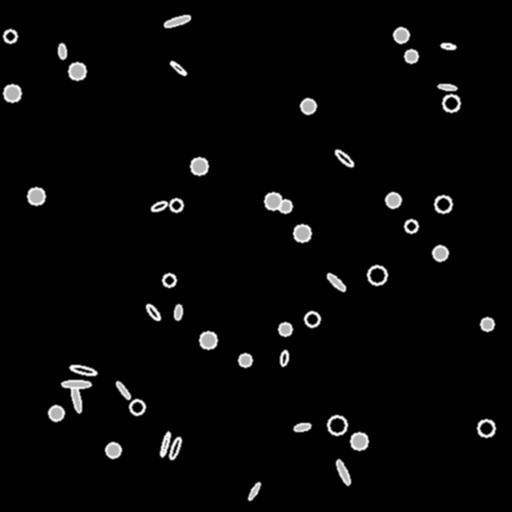pseudomonas: (335, 458, 351, 486), (325, 272, 347, 292), (334, 148, 354, 168), (163, 14, 191, 28), (70, 383, 82, 413), (159, 431, 171, 457), (70, 364, 96, 376), (168, 437, 182, 459), (145, 303, 161, 321), (115, 381, 131, 399), (169, 60, 187, 76), (247, 482, 261, 500), (150, 199, 168, 213), (62, 380, 90, 388), (294, 422, 310, 432), (437, 83, 457, 91), (279, 350, 289, 366), (174, 304, 182, 320), (58, 43, 66, 59), (440, 42, 456, 50)
synechocystis: (328, 416, 346, 434), (368, 266, 386, 284), (478, 420, 494, 436), (443, 95, 459, 111), (4, 85, 20, 101), (69, 63, 85, 79), (200, 332, 216, 348), (28, 188, 44, 204), (351, 433, 367, 449), (294, 225, 310, 241), (265, 193, 281, 209), (191, 158, 207, 174), (435, 196, 451, 212), (49, 406, 63, 420), (130, 400, 144, 414), (386, 193, 400, 207), (106, 443, 120, 457), (433, 246, 447, 260), (305, 312, 319, 326), (301, 99, 315, 113), (394, 28, 408, 42), (481, 318, 493, 330), (239, 354, 251, 366), (170, 199, 182, 211), (279, 200, 291, 212), (163, 274, 175, 286), (405, 50, 417, 62), (279, 323, 291, 335), (405, 220, 417, 232), (4, 30, 16, 42)
